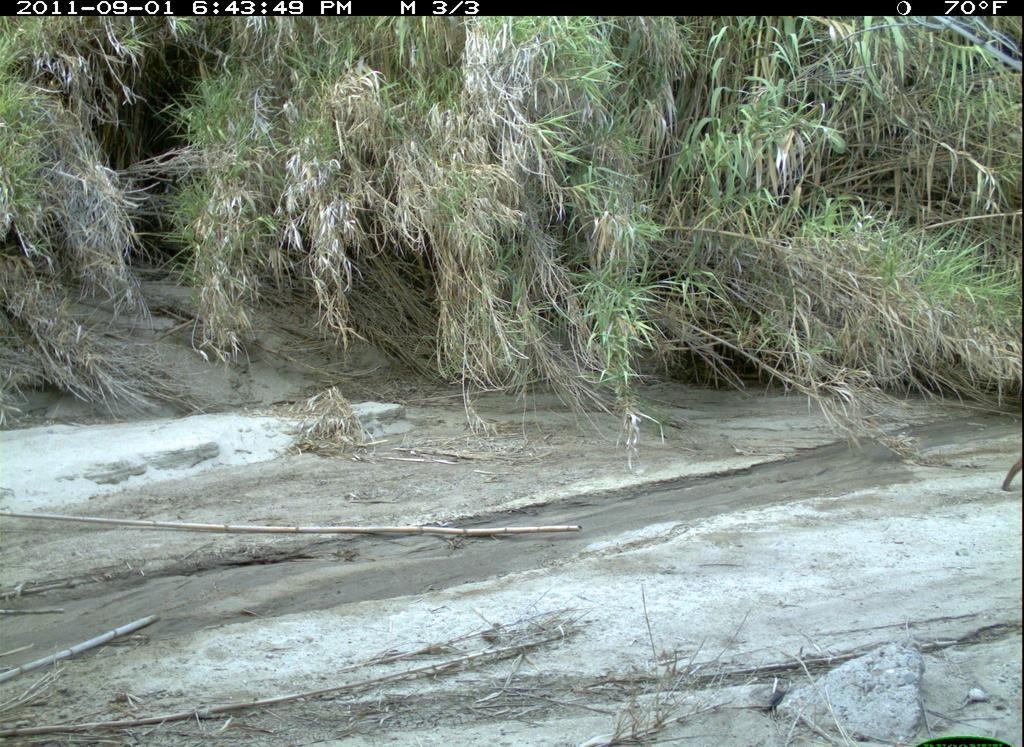bobcat: (999, 434, 1023, 501)
